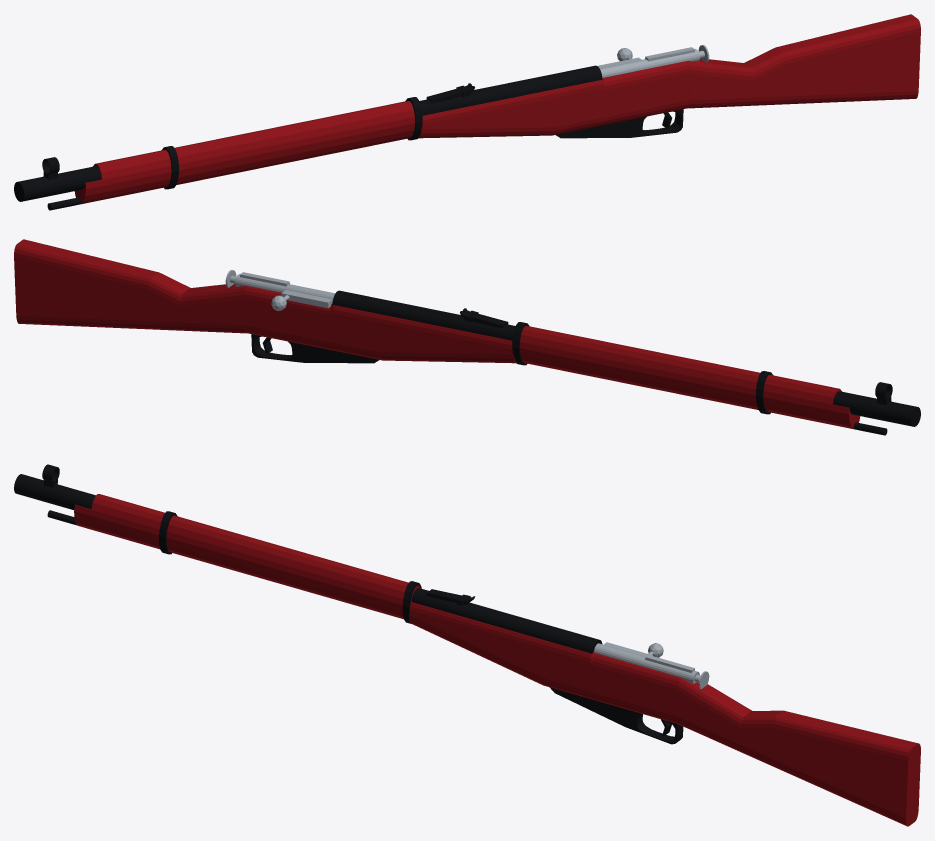
Rendered from mosin-nagant0002.obj.
3 renders of one model, top to bottom at view 1: azimuth 30°, elevation 25°; view 2: azimuth 150°, elevation 25°; view 3: azimuth 330°, elevation 25°, orthographic.
Parts seen in each view (by area): view 1: stock, barrel, triggerGuard, bolt; view 2: stock, barrel, triggerGuard, bolt, boltLocker; view 3: stock, barrel, triggerGuard, bolt.
Part boxes in pixels (x1=…): stock: x1=74, y1=14, x2=920, y2=204; barrel: x1=14, y1=65, x2=602, y2=201; triggerGuard: x1=556, y1=109, x2=683, y2=138; bolt: x1=599, y1=49, x2=699, y2=77; stock: x1=14, y1=239, x2=860, y2=429; barrel: x1=332, y1=290, x2=920, y2=426; triggerGuard: x1=251, y1=334, x2=378, y2=363; bolt: x1=235, y1=274, x2=335, y2=302; boltLocker: x1=281, y1=290, x2=332, y2=308; stock: x1=74, y1=494, x2=920, y2=826; barrel: x1=14, y1=474, x2=602, y2=654; triggerGuard: x1=550, y1=687, x2=683, y2=744; bolt: x1=594, y1=643, x2=699, y2=683.
Size of the model in its own units: 16.31 by 2.57 by 0.818.
